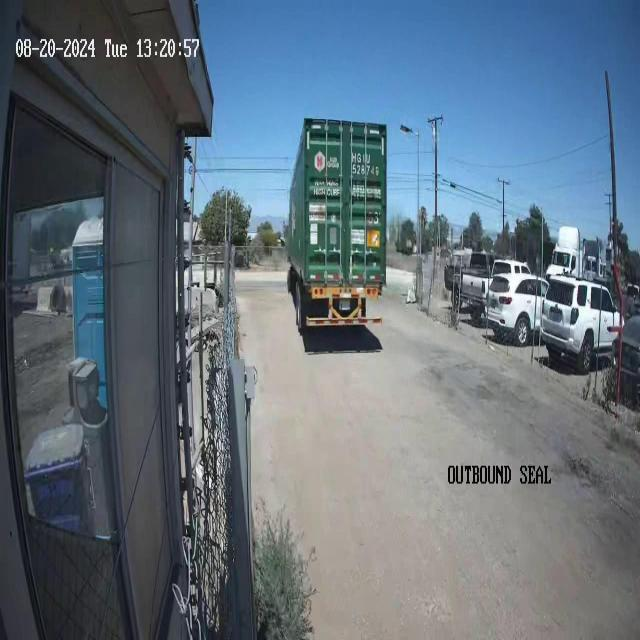TRUCK_OUT: (285, 116, 388, 333)
